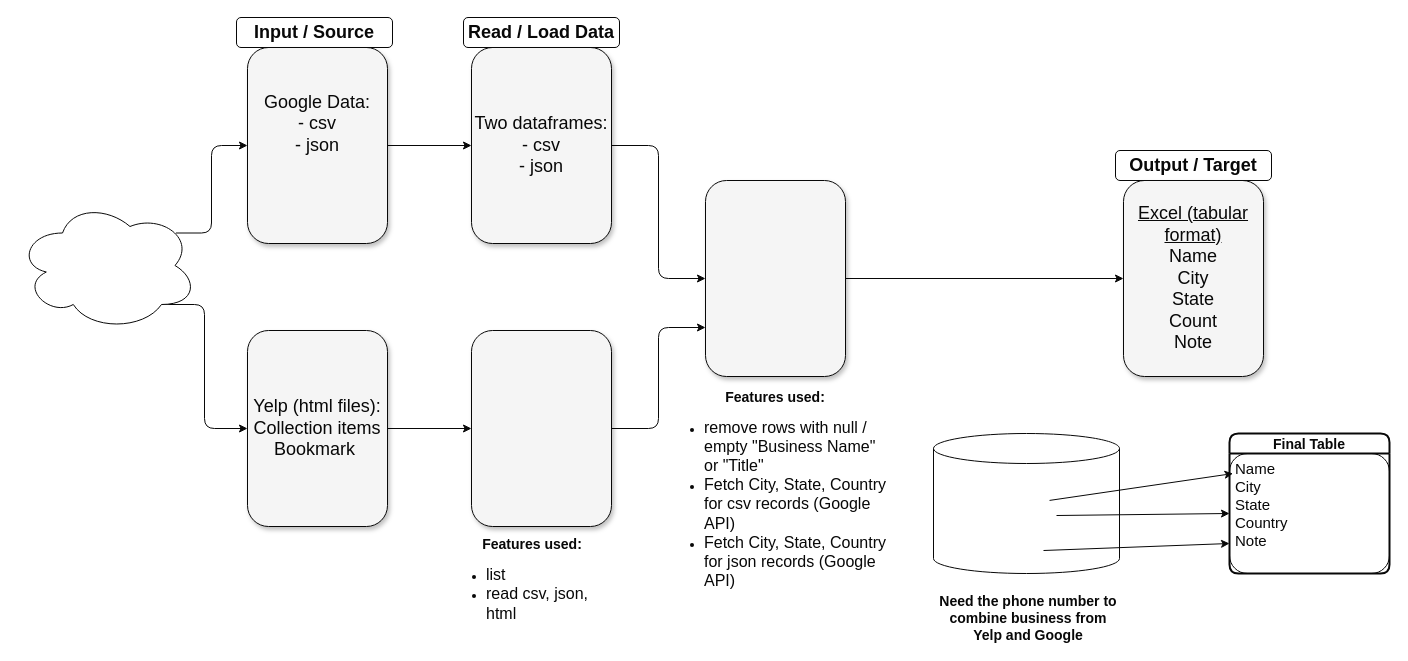
This 1408x661 diagram has some shape labels left out. Here are the shapes that lost their labels. From the top down, the centre of each, then its label:
pixel 107 265: Gather data
pixel 776 280: Cleanse, Join, and Transform
pixel 542 430: One dataframe storing records from both html files
pixel 1026 503: Available Data Name Location Phone Number Note
